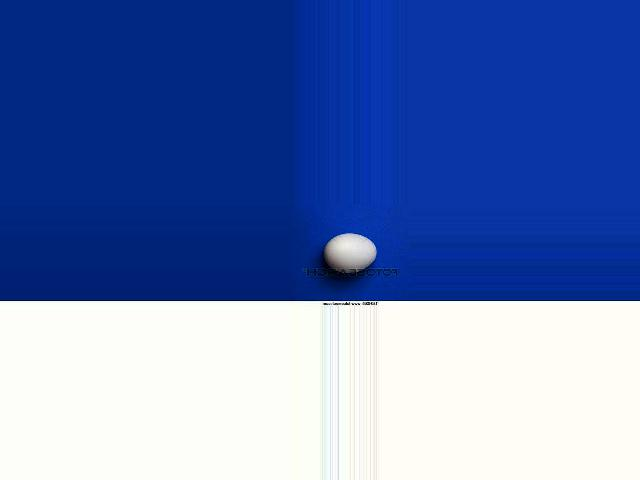egg: (323, 233, 376, 274)
